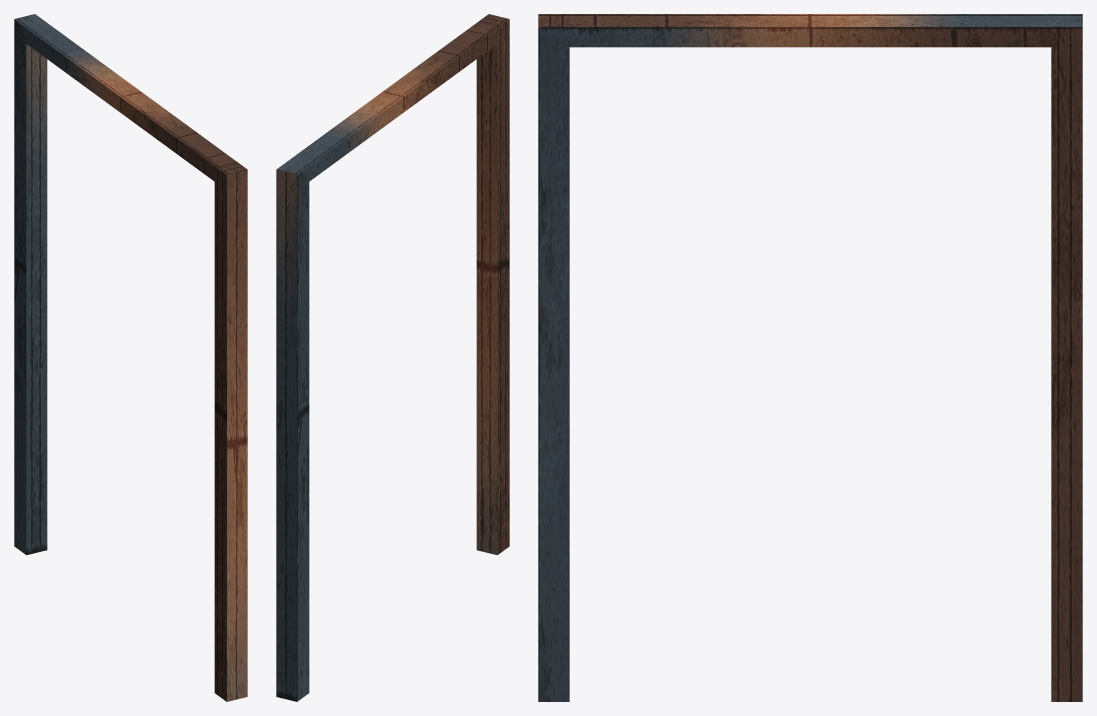
File: DoorBorder.fbx
3 renders of one model, left to right at view 1: azimuth 30°, elevation 25°; view 2: azimuth 150°, elevation 25°; view 3: azimuth 270°, elevation 25°, orthographic. The views are drawn at different scales.
Visible parts, largest first — view 1: DoorBorder; view 2: DoorBorder; view 3: DoorBorder.
Part boxes in pixels (box(x1,y1,x2,y2)): DoorBorder: box(14, 14, 247, 701); DoorBorder: box(276, 14, 509, 701); DoorBorder: box(538, 14, 1082, 701).
Size of the model in its own units: 0.3485 by 8.38 by 6.13.
